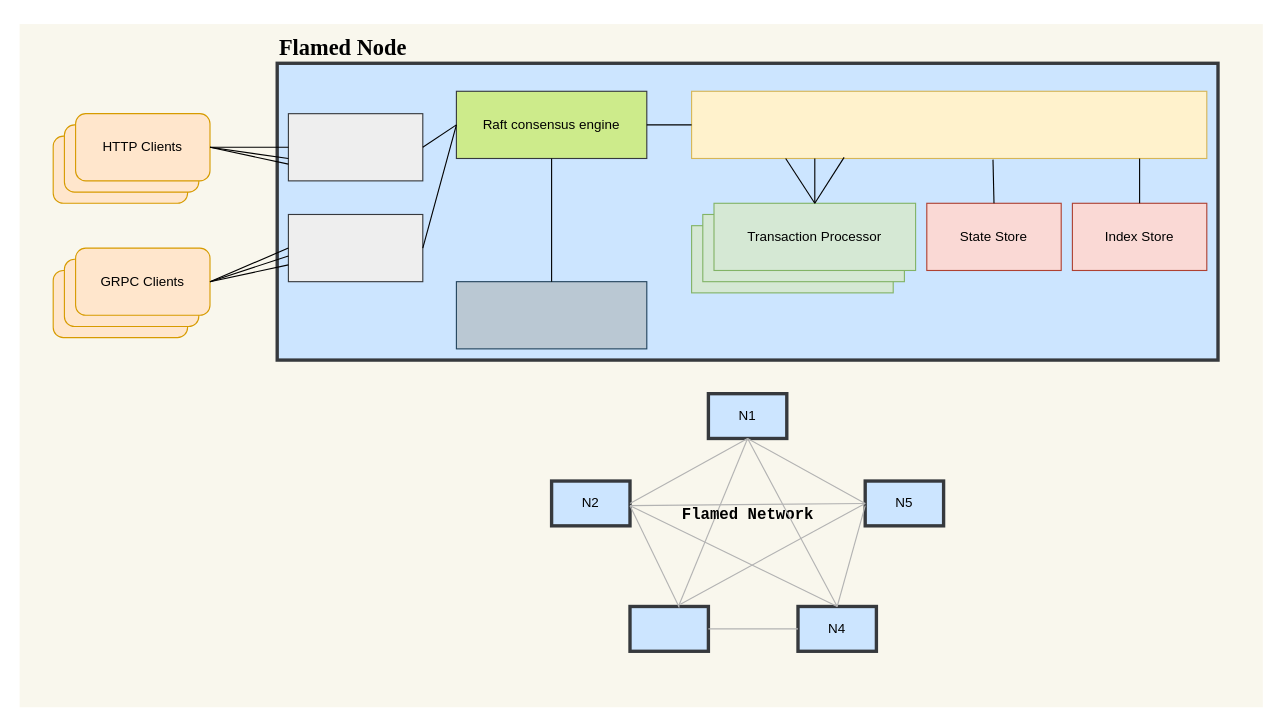
The diagram is 1281 pixels wide and 726 high, and some of its shapes have lost their labels. Here are the shapes that lost their labels. From the top down, the centre of each, then its label:
At (948,124): "Storage".
At (355,147): "GraphQL API".
At (355,247): "GRPC API".
At (551,315): "P2P Network".
At (669,628): "N3".
